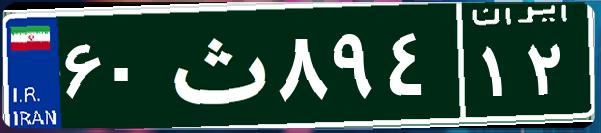0: (110, 28, 158, 105)
1: (475, 38, 525, 113)
2: (525, 38, 570, 115)
4: (385, 28, 445, 110)
6: (57, 26, 110, 107)
8: (273, 28, 330, 110)
9: (330, 28, 385, 110)
ث: (158, 15, 273, 115)
